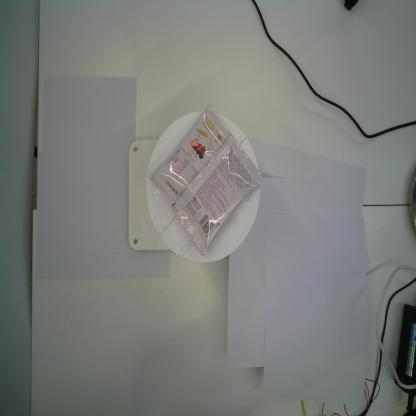Instant Drink: (149, 104, 265, 258)
